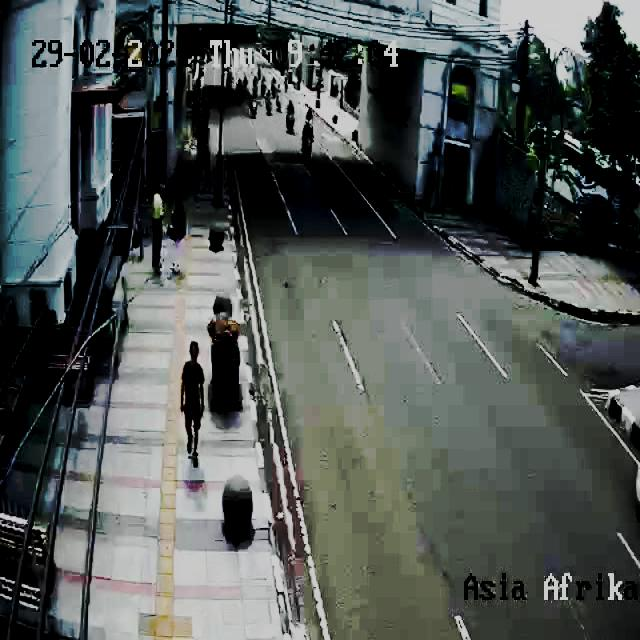Bike: (300, 117, 318, 171), (247, 82, 264, 124), (264, 86, 280, 122), (302, 98, 321, 128), (284, 95, 297, 136)
